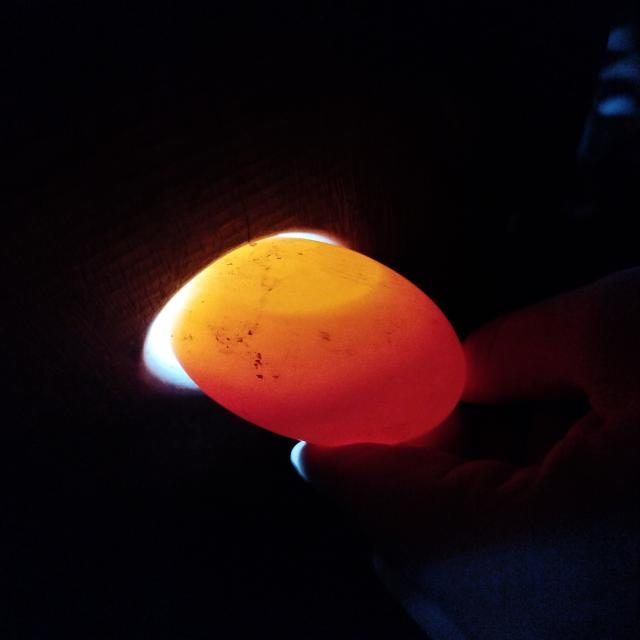Camara de Ar: (201, 237, 381, 311)
Gema Quebrada: (185, 334, 465, 446)
